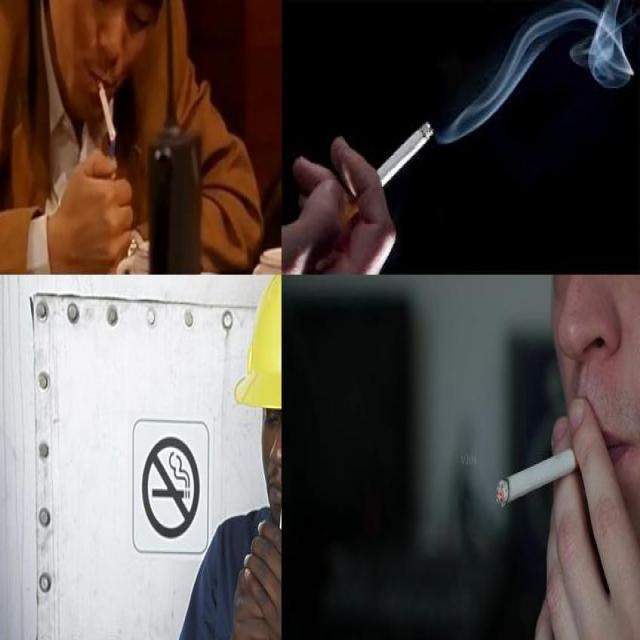rokok: (338, 122, 434, 226), (497, 436, 607, 508), (92, 74, 120, 142)
